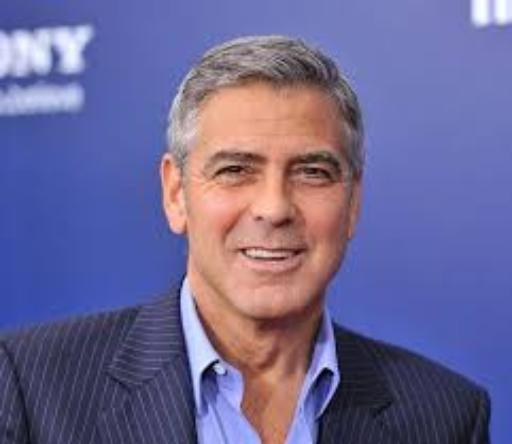left_eye: (293, 165, 340, 184)
left_lip_corner: (298, 246, 313, 261)
right_eye: (212, 164, 258, 182)
right_lip_corner: (229, 244, 247, 262)
